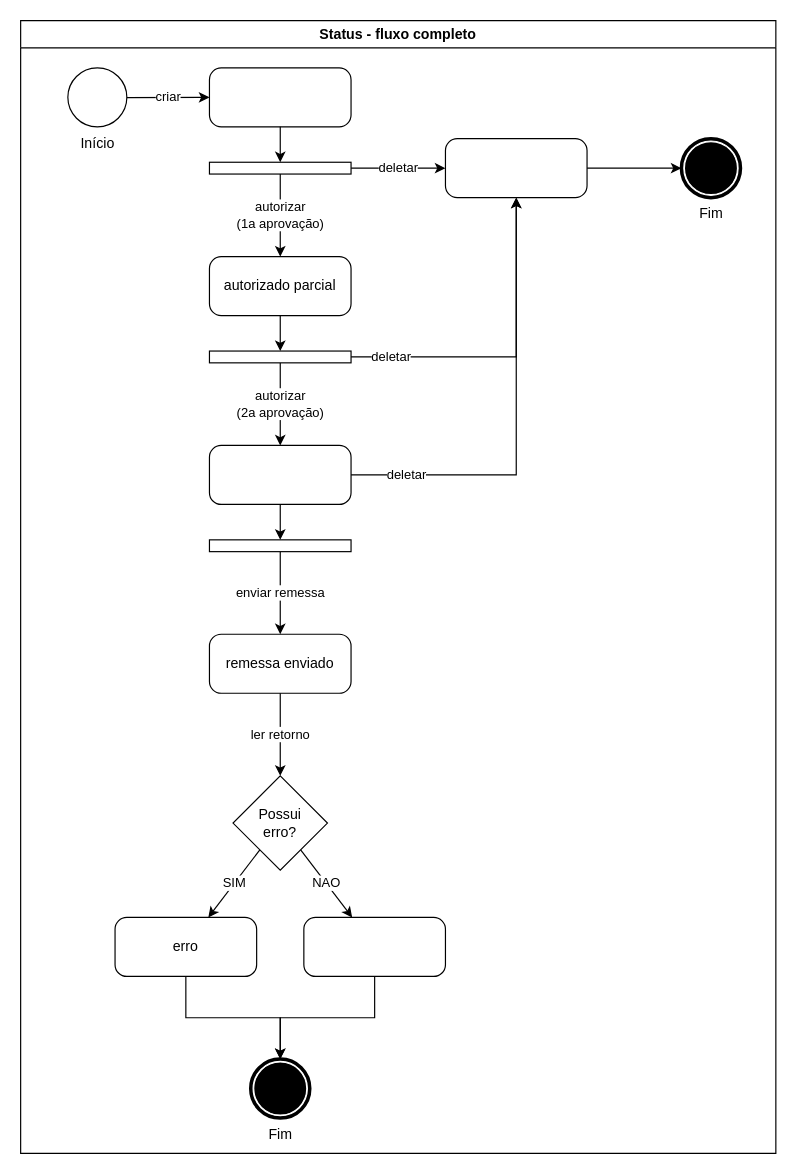
Image size: 796x1174. Some labels were removed from this diagram. The centre of each missing label's shape, as x and y in pixels:
"autorizado" belongs at [279,474].
"cancelado" belongs at [515,167].
"criado" belongs at [279,97].
"pago" belongs at [374,946].
